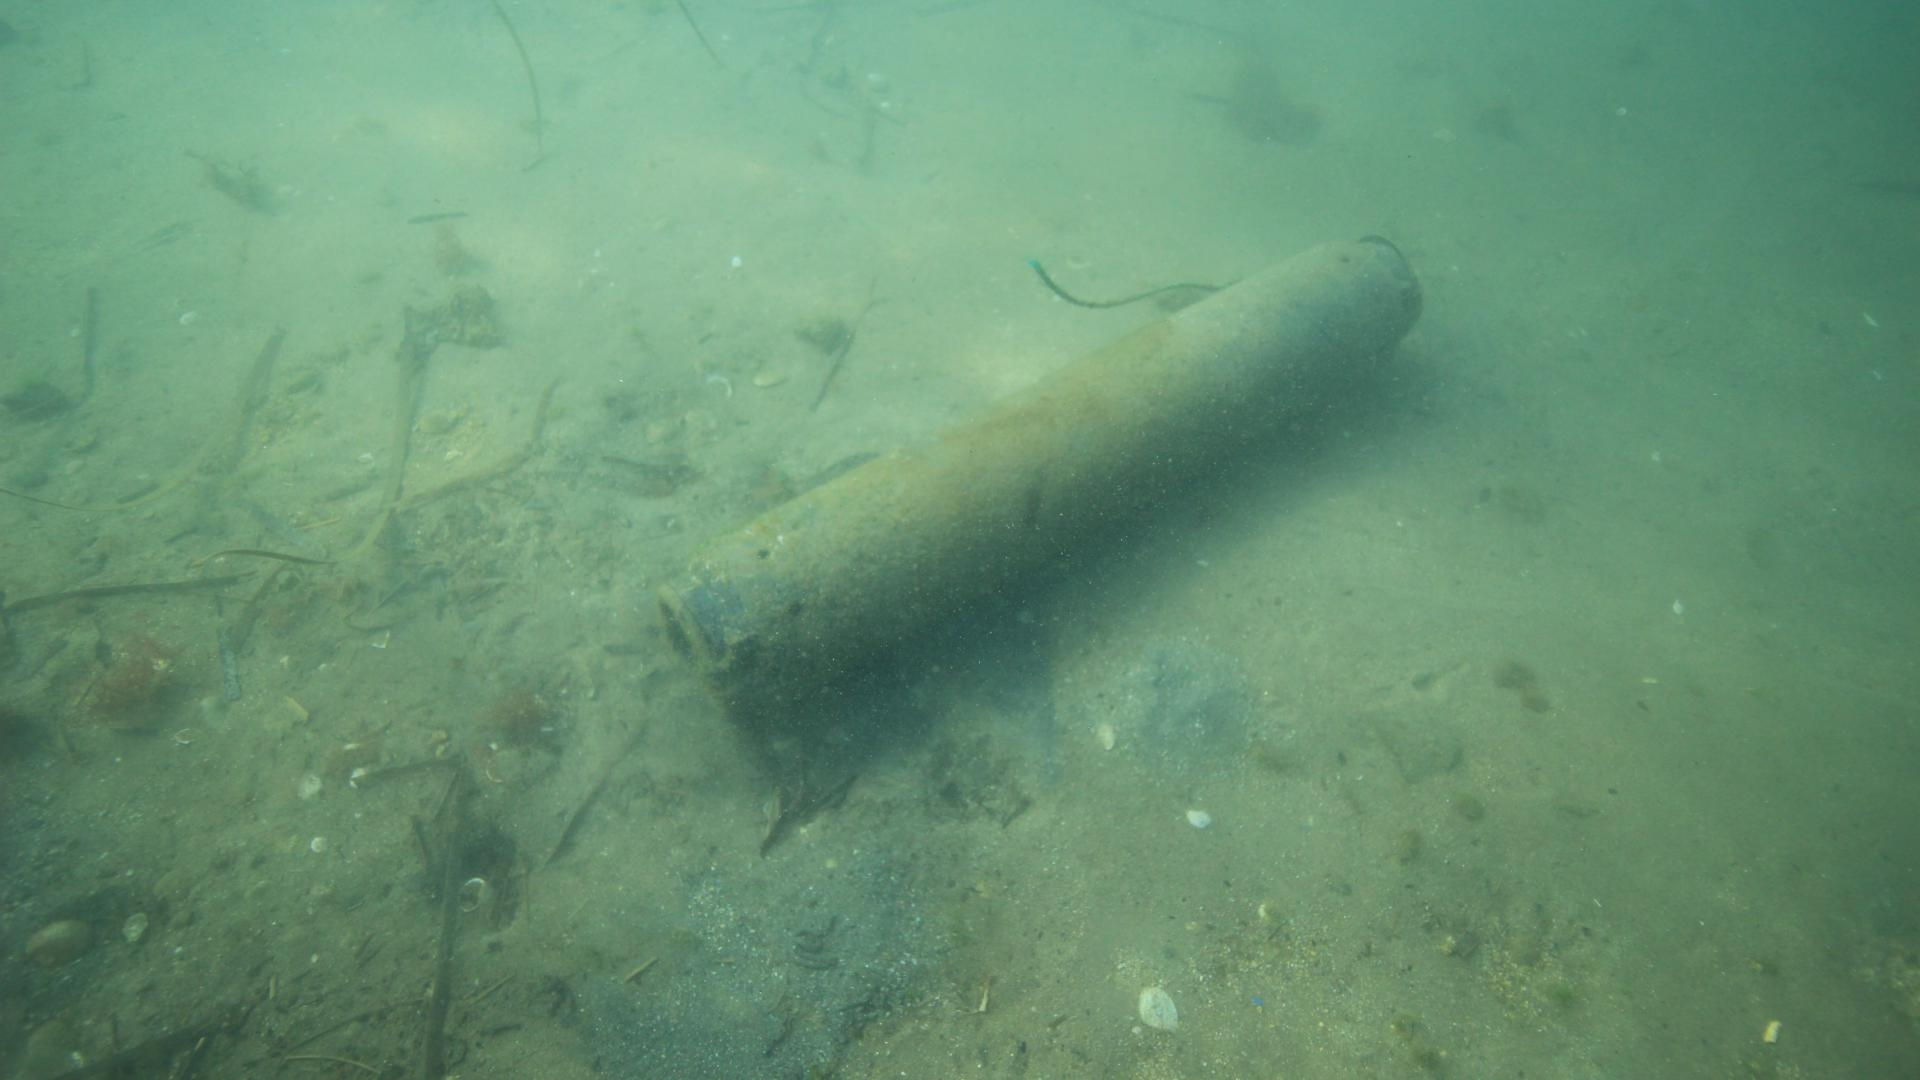eel fish trap: (651, 229, 1422, 702)
rope: (1022, 251, 1245, 313)
